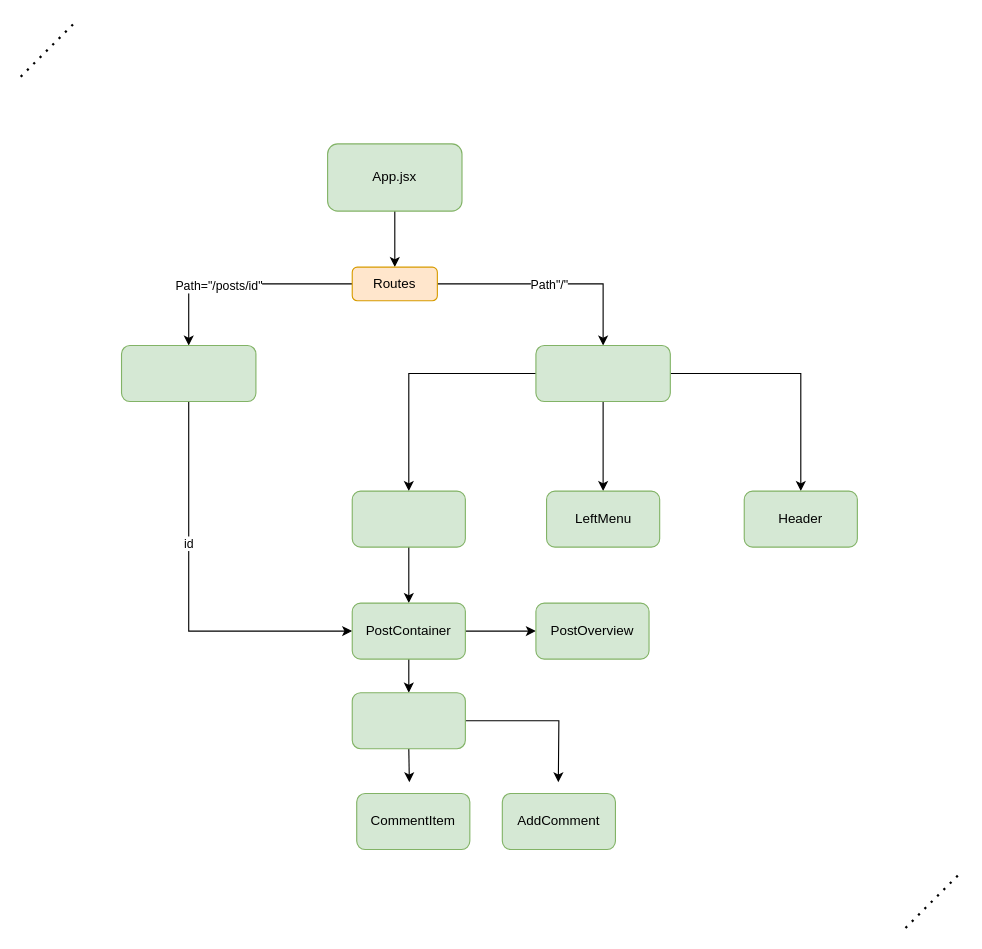
Some shapes in this 982 by 949 pixel diagram are drawn without their labels. Each missing label, with the centre of its shape:
"CommentSection" goes at (x=408, y=720).
"ContentFeed" goes at (x=408, y=518).
"Homepage" goes at (x=602, y=373).
"PostPage" goes at (x=188, y=373).
